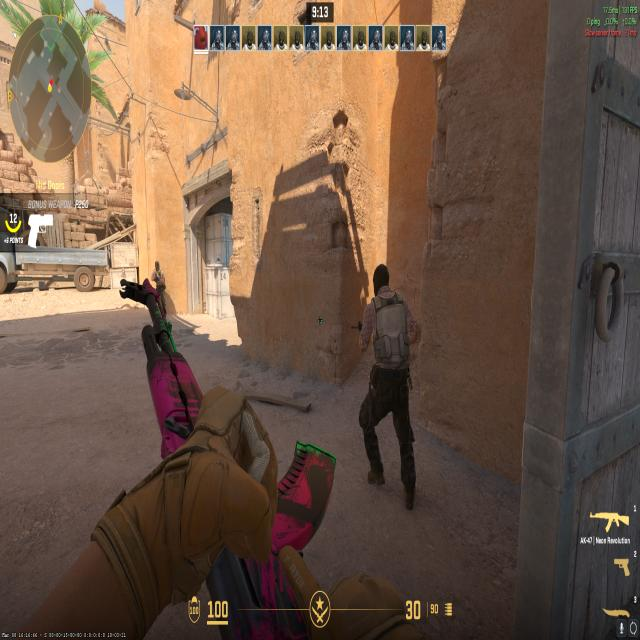t: (352, 259, 420, 507), (149, 256, 170, 316)
